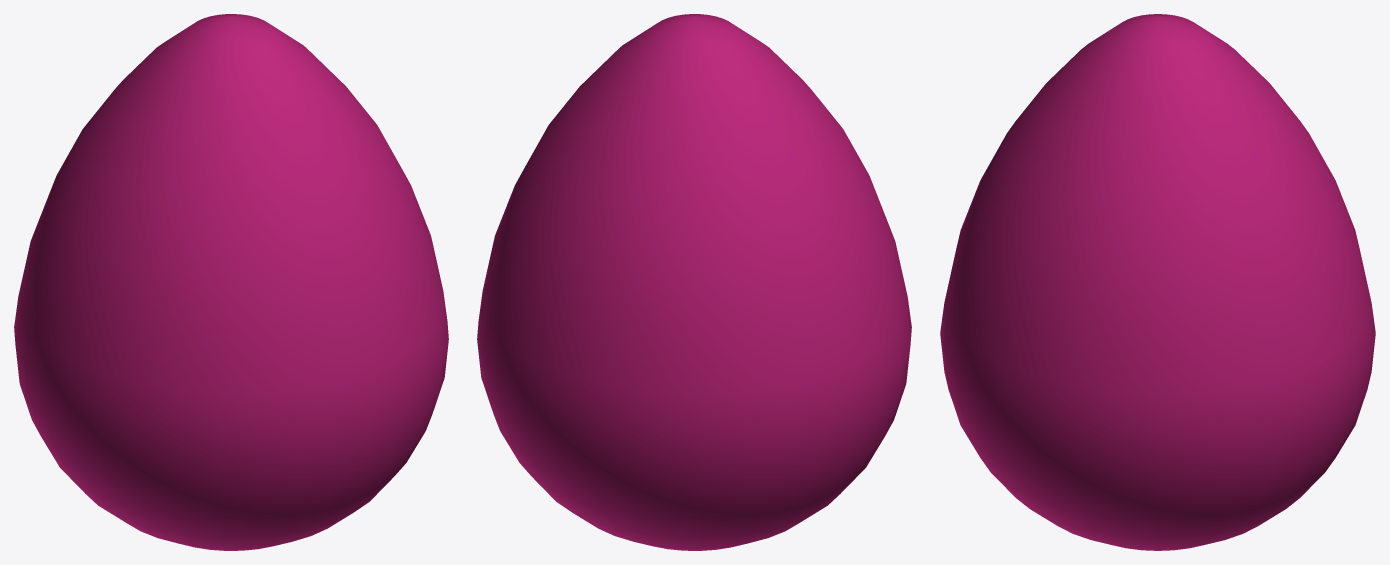
3 renders of one model, left to right at view 1: azimuth 30°, elevation 25°; view 2: azimuth 150°, elevation 25°; view 3: azimuth 270°, elevation 25°, orthographic.
Parts seen in each view (by area): view 1: Sphere001; view 2: Sphere001; view 3: Sphere001.
Part boxes in pixels (x1,y1,x2,y2): Sphere001: (14,14,448,550); Sphere001: (477,14,911,550); Sphere001: (940,14,1375,550).
Size of the model in its own units: 37.47 by 48.66 by 37.47.
1 material, 1 textured.
